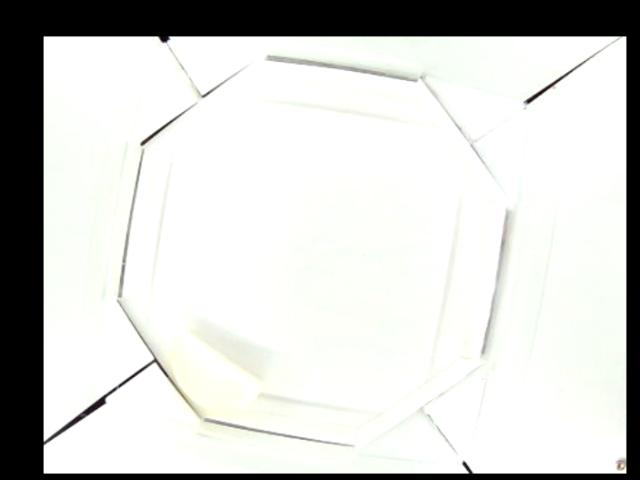Mooli: (176, 325, 258, 408)
